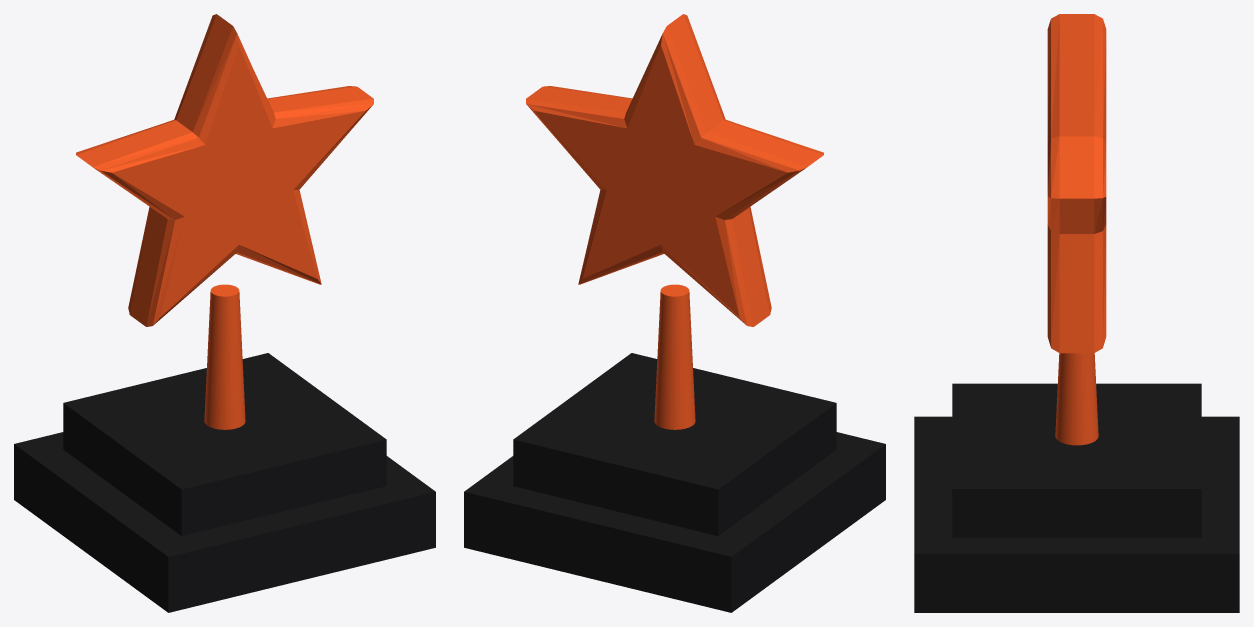
Rendered from trophy-none.glb.
3 views of the same model, side by side, from view 1: azimuth 30°, elevation 25°; view 2: azimuth 150°, elevation 25°; view 3: azimuth 270°, elevation 25° (orthographic). The views are drawn at different scales.
Bounding box in the file's own units: 0.1577 × 0.27 × 0.15.
